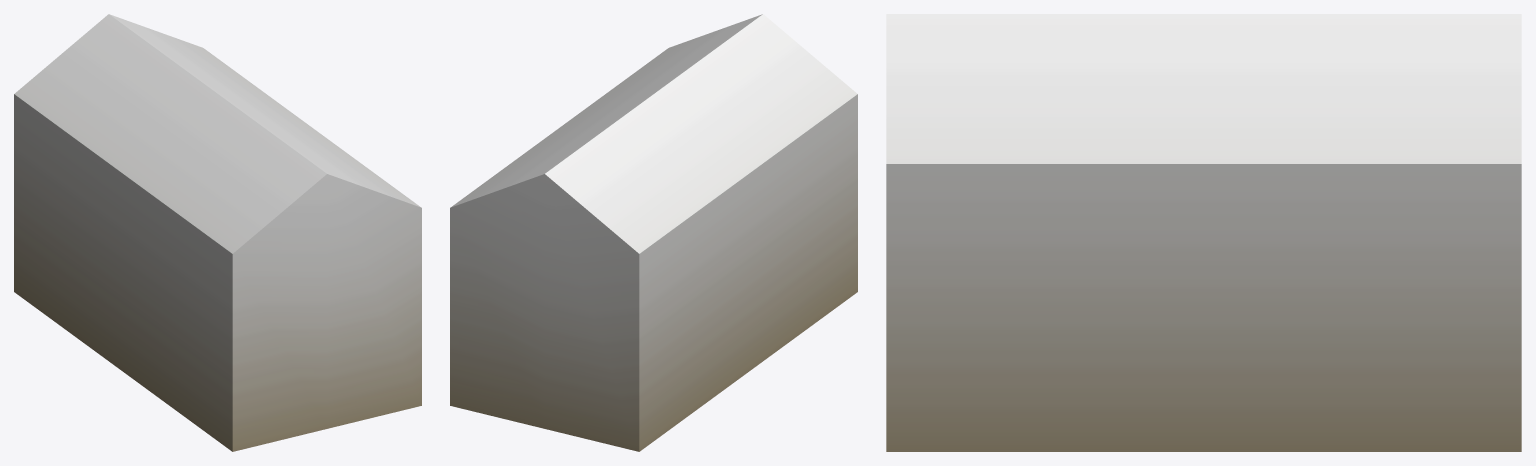
The model's file is SM_Blockout_House_01.fbx.
The picture shows the model from 3 angles, left to right: view 1: azimuth 30°, elevation 25°; view 2: azimuth 150°, elevation 25°; view 3: azimuth 270°, elevation 25°; orthographic projection. The views are drawn at different scales.
Parts seen in each view (by area): view 1: SM_Blockout_House_01; view 2: SM_Blockout_House_01; view 3: SM_Blockout_House_01.
Part boxes in pixels (x1,y1,x2,y2): SM_Blockout_House_01: (14, 14, 421, 451); SM_Blockout_House_01: (450, 14, 857, 451); SM_Blockout_House_01: (886, 14, 1521, 451).
Size of the model in its own units: 1 by 1.29 by 2.
